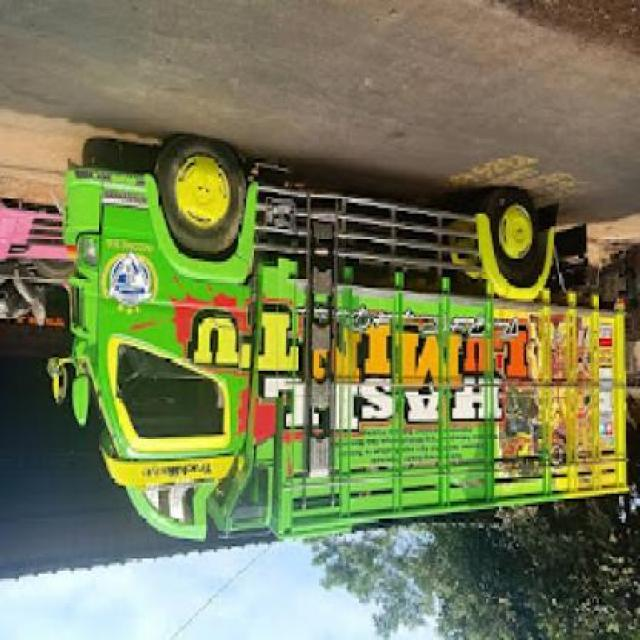truck: (49, 142, 629, 548)
